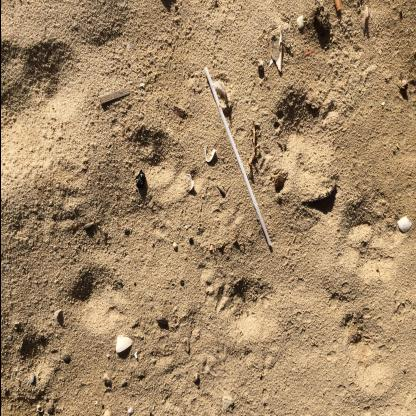plastik: (203, 66, 271, 246)
